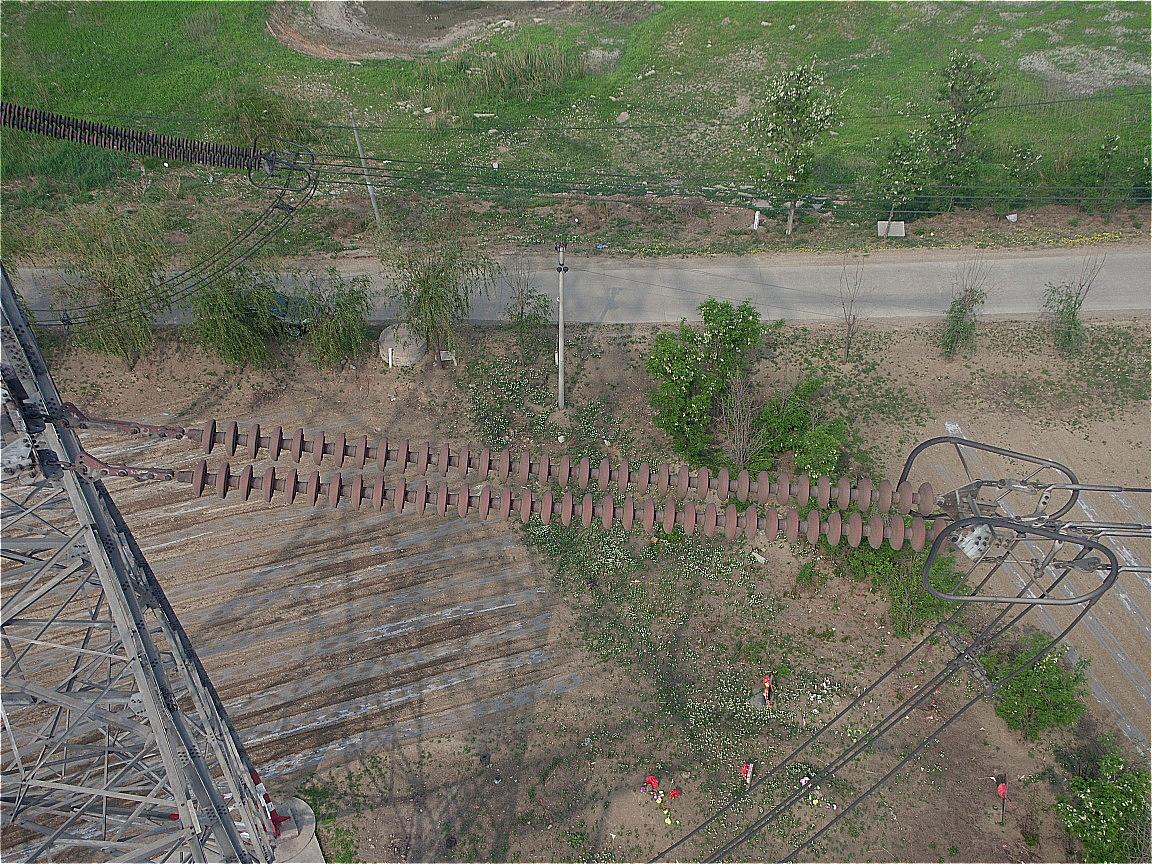insultor1: (192, 416, 951, 555)
insultor2: (3, 102, 262, 172)
